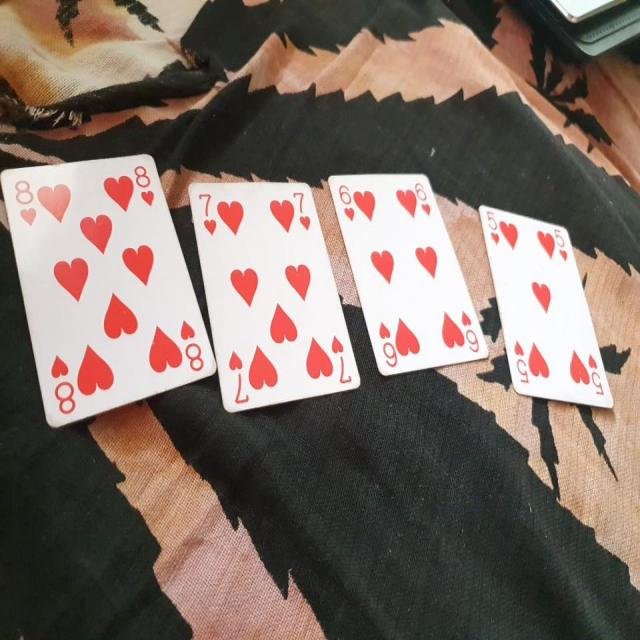5 Hearts: (473, 193, 620, 414)
6 Hearts: (325, 168, 490, 383)
7 Hearts: (184, 166, 366, 423)
8 Hearts: (1, 145, 219, 434)
